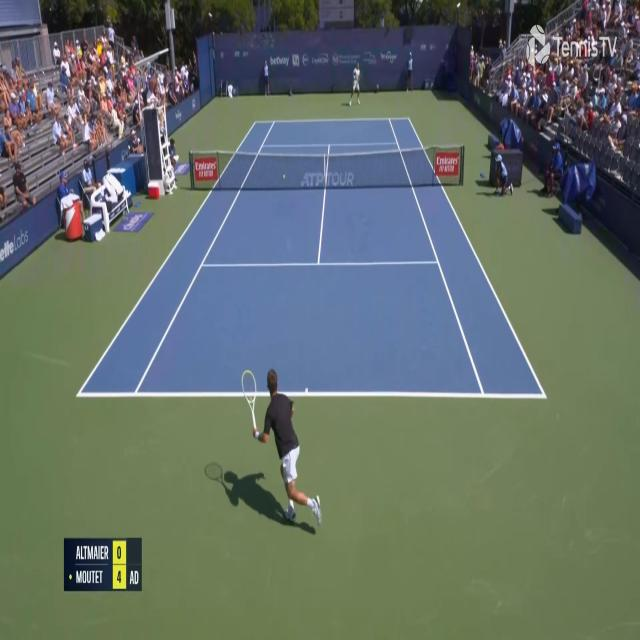tennis-player: (243, 364, 323, 528), (348, 62, 363, 107)
